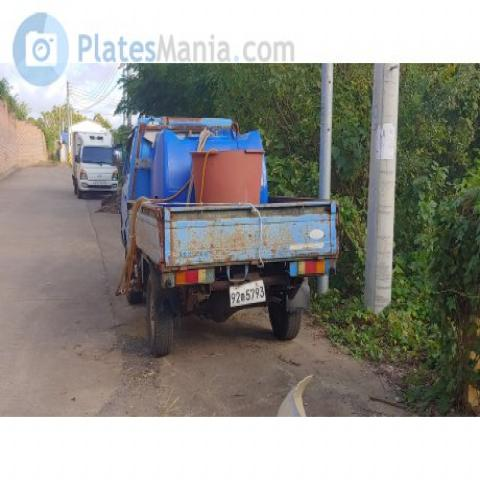LP: (224, 267, 268, 317)
